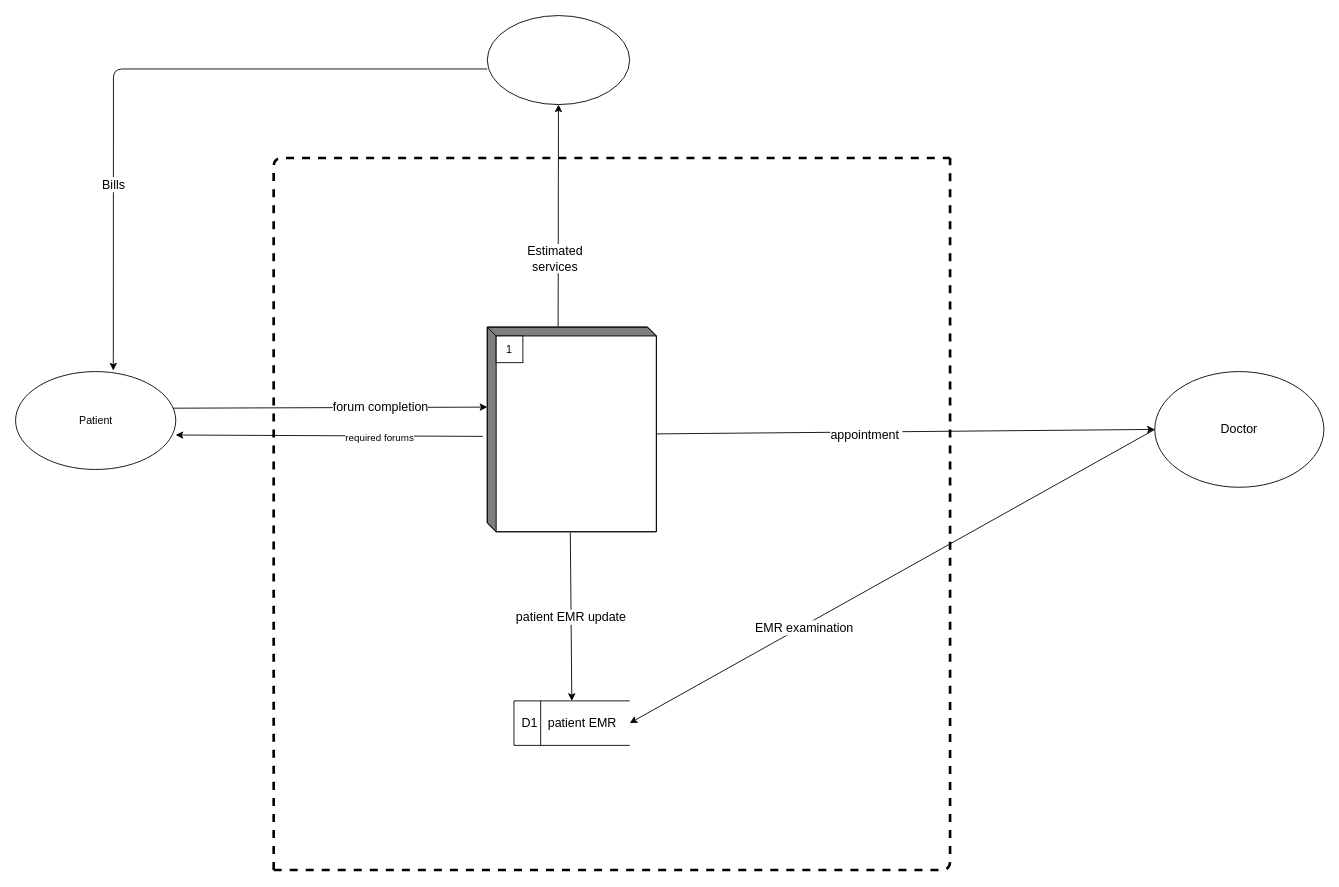
This 1339x887 diagram has some shape labels left out. The shapes that lost their labels are listed below. From the top down, each one's box as (x1, y1, x2, y2) in pixels, then its label:
(486, 15, 630, 105): Accounting
(486, 326, 656, 532): AI Receptionist
